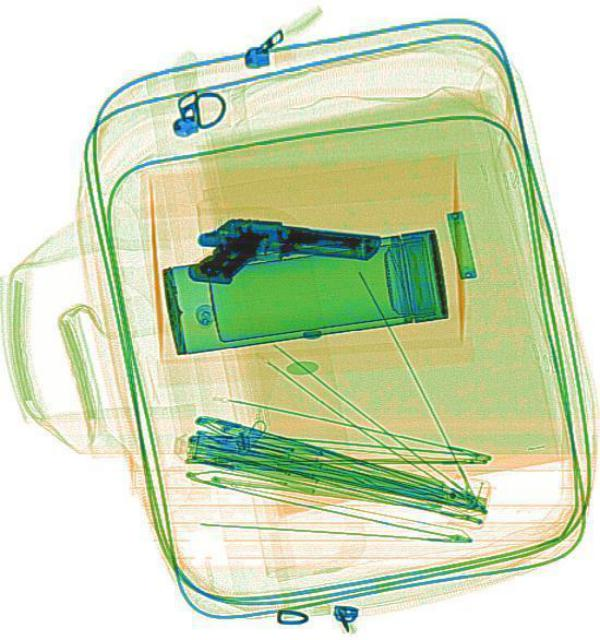Gun: (185, 208, 379, 304)
